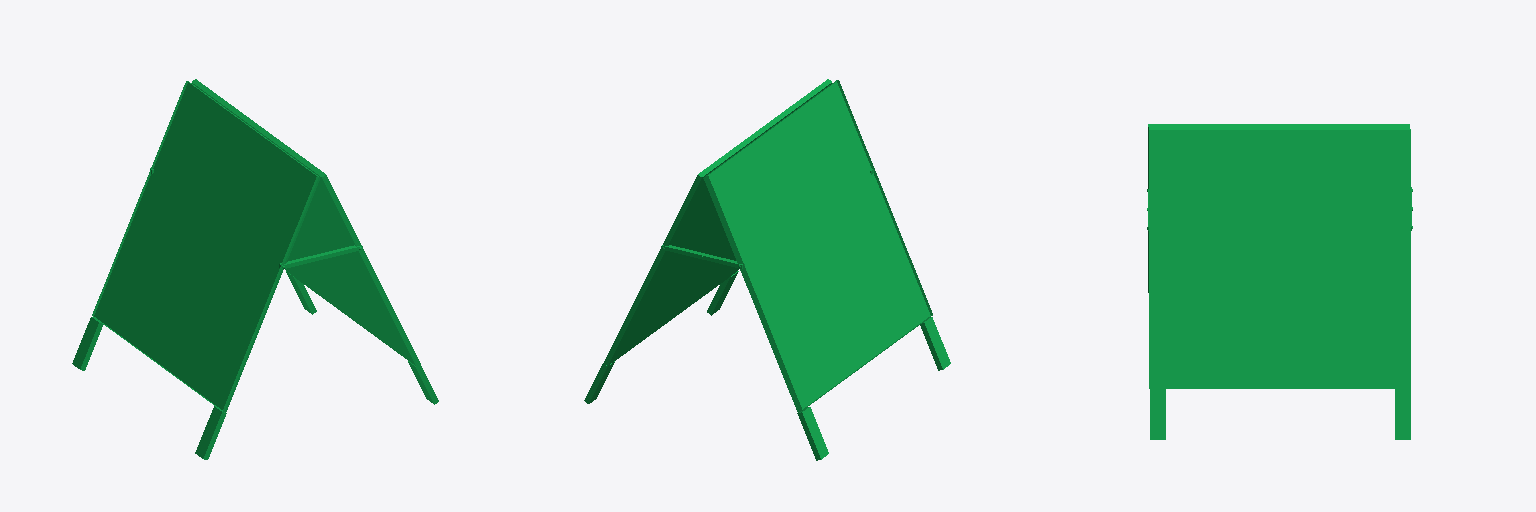
Rendered from blackboard.obj.
The picture shows the model from 3 angles: view 1: azimuth 30°, elevation 25°; view 2: azimuth 150°, elevation 25°; view 3: azimuth 270°, elevation 25°; orthographic projection.
Parts seen in each view (by area): view 1: Box001, Box002, Box003, Box006; view 2: Box001, Box002, Box003, Box006; view 3: Box002, Box001, Box005, Box004.
Part boxes in pixels (bbox=[...]): Box001: bbox=[92, 81, 319, 412]; Box002: bbox=[192, 79, 420, 366]; Box003: bbox=[72, 317, 103, 370]; Box006: bbox=[195, 406, 226, 459]; Box001: bbox=[703, 80, 932, 412]; Box002: bbox=[604, 79, 831, 365]; Box003: bbox=[797, 407, 828, 460]; Box006: bbox=[920, 317, 950, 370]; Box002: bbox=[1149, 130, 1410, 388]; Box001: bbox=[1148, 124, 1410, 292]; Box005: bbox=[1395, 388, 1410, 439]; Box004: bbox=[1150, 389, 1165, 439].
Size of the model in its own units: 31.13 by 32.42 by 30.25.